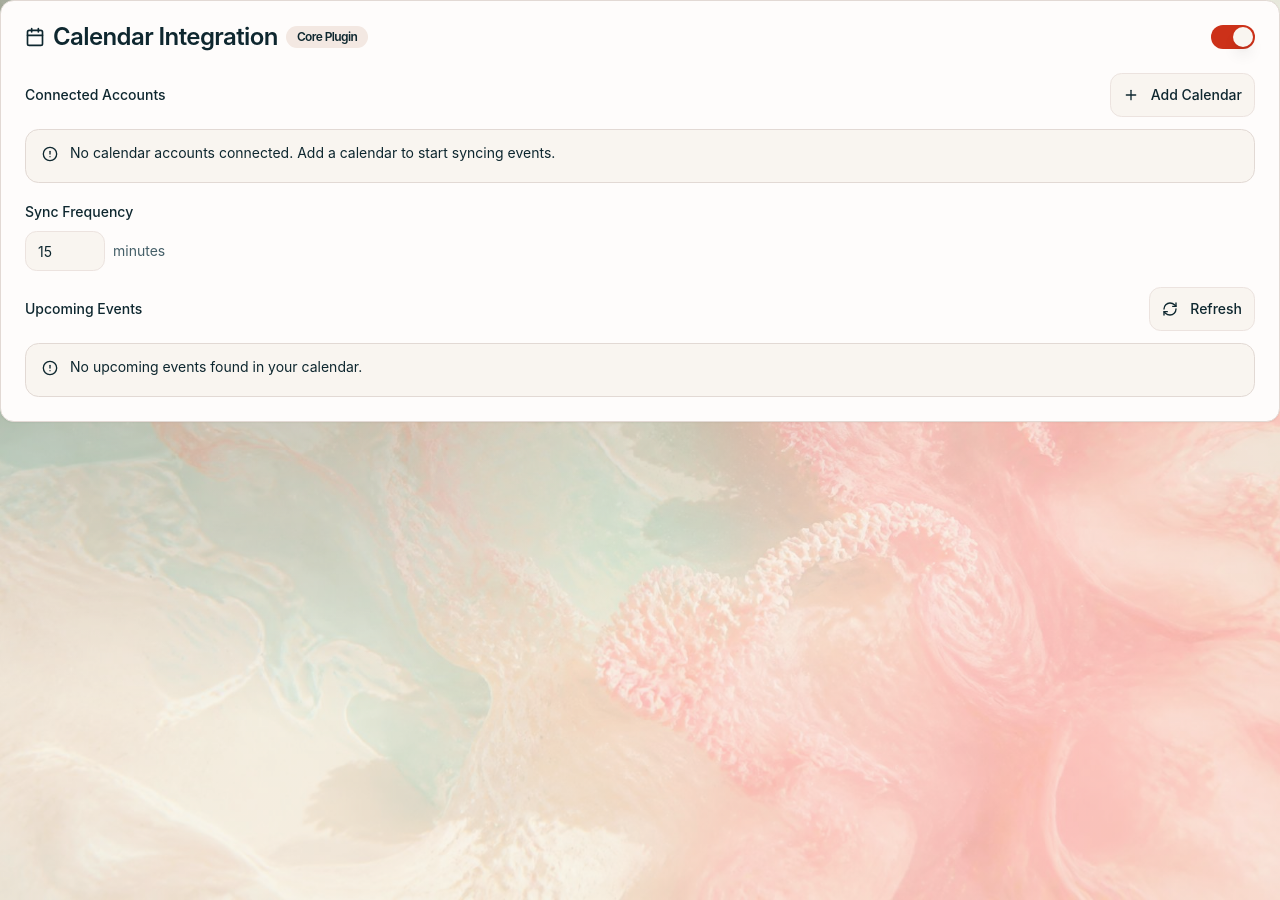
CalendarIntegrationPlugin same-tab OAuth launch › surfaces an actionable launch error
Click the button "Add Calendar".
click(1182, 95)  # box [1110,73,1255,117]
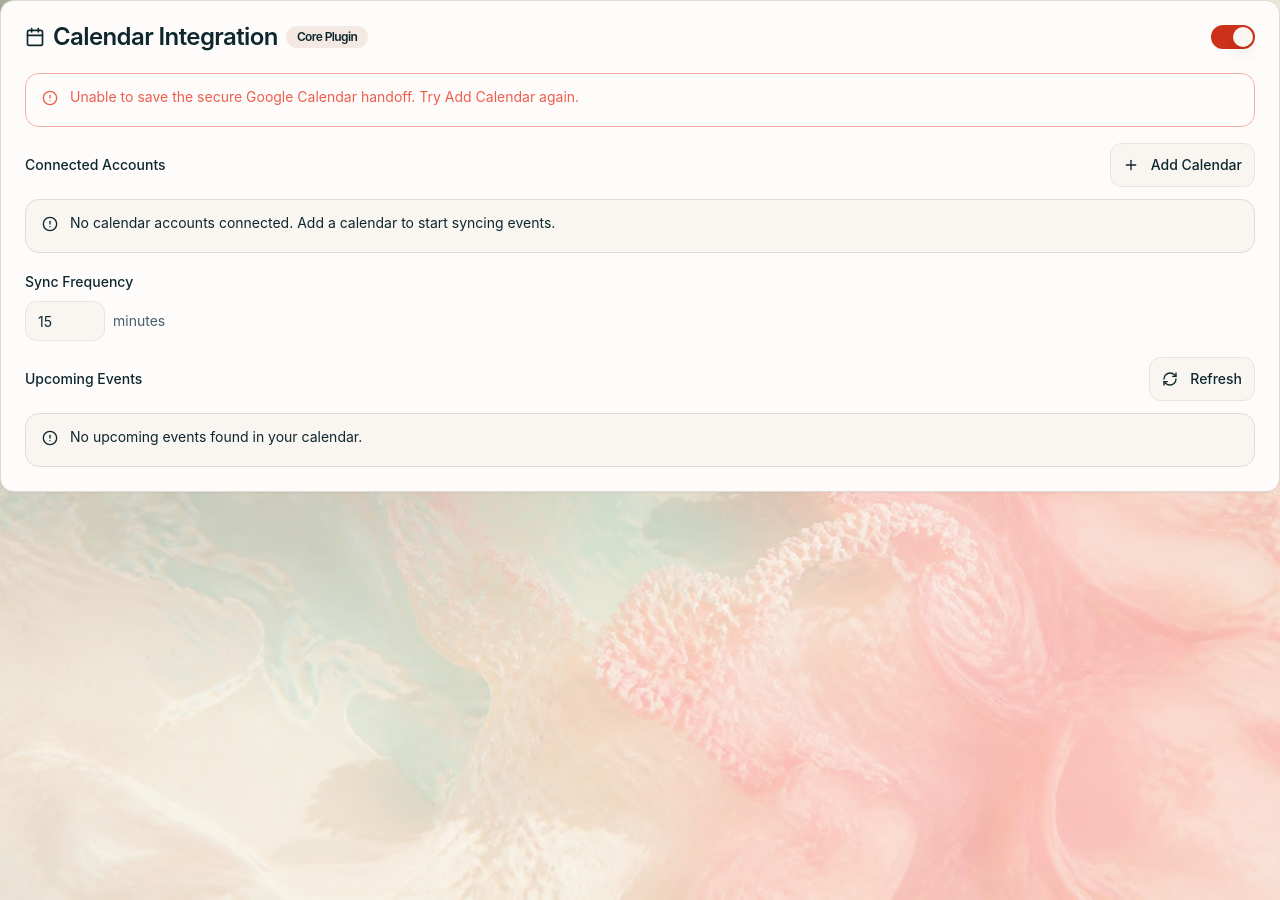
Expected: the text "secure Google Calendar handoff" is shown, [70,88,579,105]
